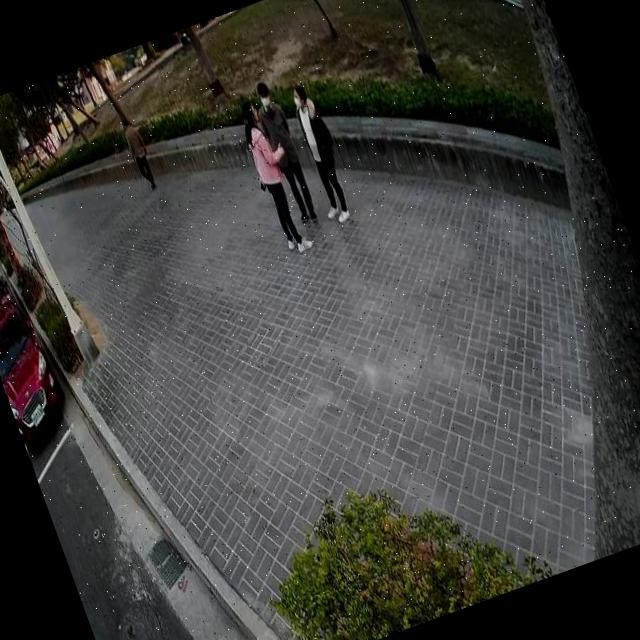person: (228, 91, 322, 261), (280, 74, 364, 230), (245, 73, 325, 229), (116, 110, 162, 196)
